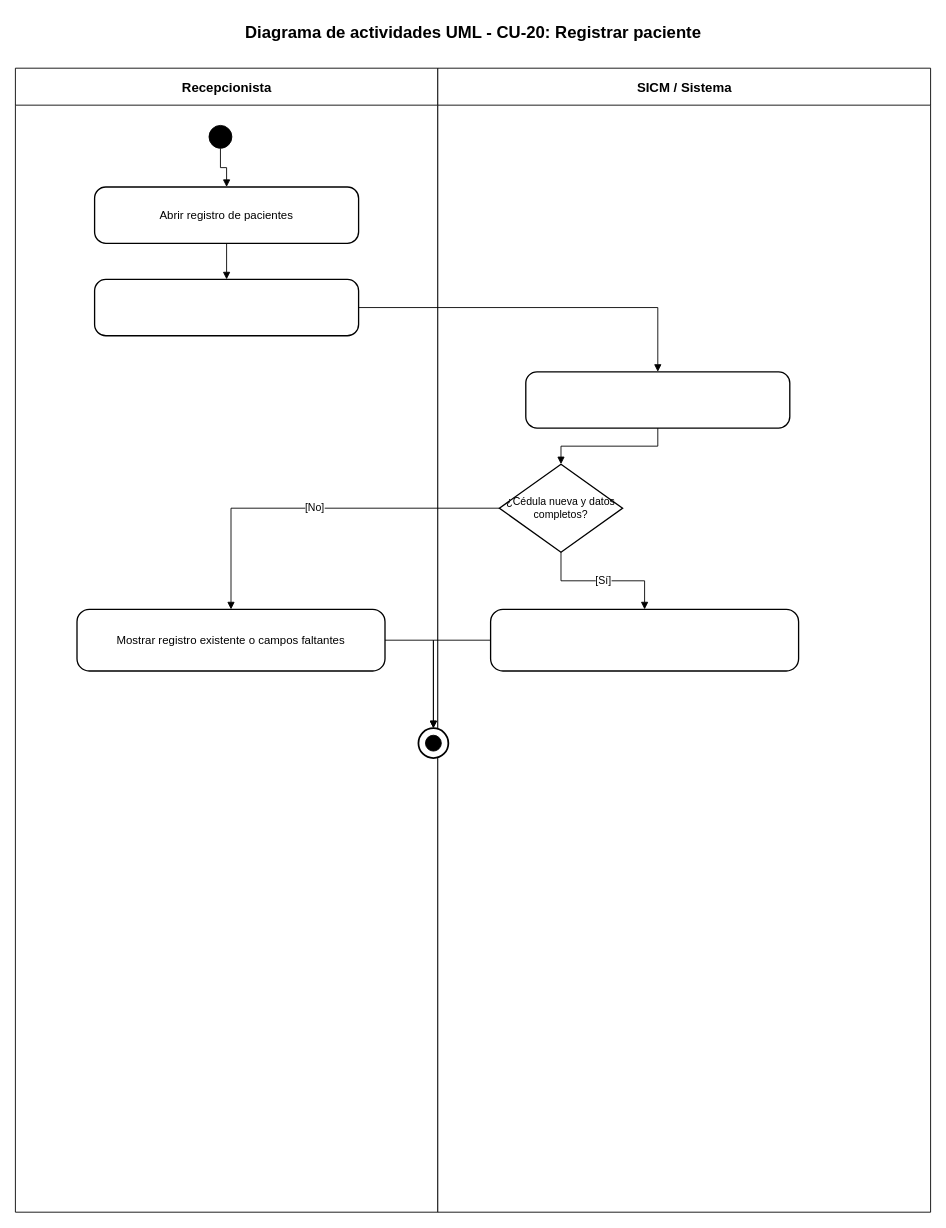
The diagram is 946 pixels wide and 1228 high, and some of its shapes have lost their labels. The shapes that lost their labels are listed below. From the top down, each one's centre as x and y in pixels, then its label:
At point (226, 307): "Ingresar datos personales y clínicos básicos".
At point (657, 399): "Validar campos y consultar cédula".
At point (644, 639): "Crear paciente e historia clínica única".
